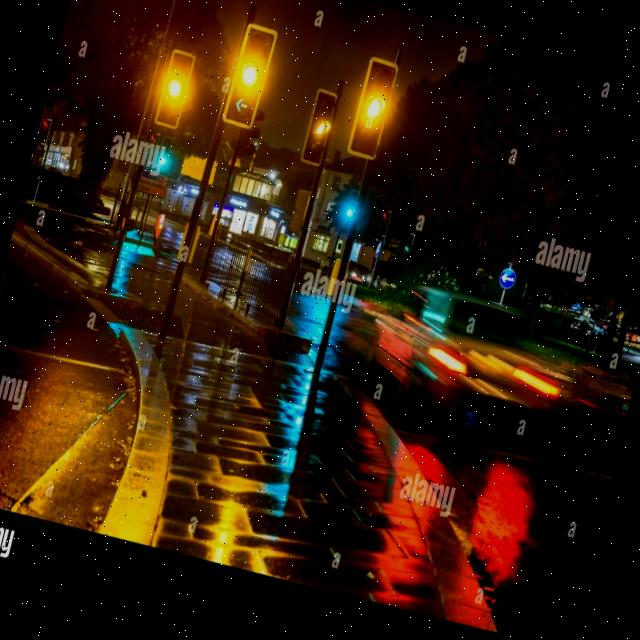green_light: (341, 190, 359, 224)
red_light: (36, 113, 51, 148), (376, 208, 390, 240)
yellow_light: (220, 20, 274, 131), (348, 60, 396, 158), (153, 50, 194, 129), (301, 94, 338, 164)
